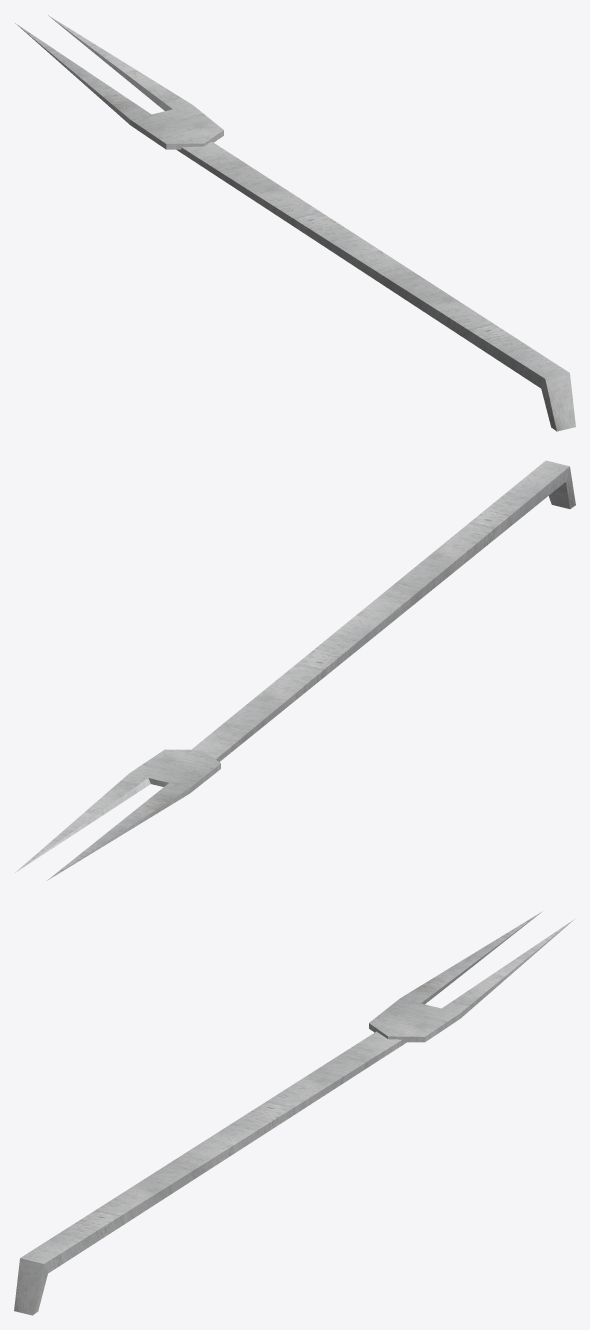
Rendered from M_Home_Garden_Bestek04.fbx.
3 renders of one model, top to bottom at view 1: azimuth 30°, elevation 25°; view 2: azimuth 150°, elevation 25°; view 3: azimuth 330°, elevation 25°, orthographic. The views are drawn at different scales.
Parts seen in each view (by area): view 1: M_Home_Garden_Bestek04; view 2: M_Home_Garden_Bestek04; view 3: M_Home_Garden_Bestek04.
Part boxes in pixels (bbox=[...]): M_Home_Garden_Bestek04: bbox=[15, 15, 575, 431]; M_Home_Garden_Bestek04: bbox=[15, 460, 575, 880]; M_Home_Garden_Bestek04: bbox=[14, 911, 574, 1315].
Size of the model in its own units: 4.33 by 3.13 by 65.68.
